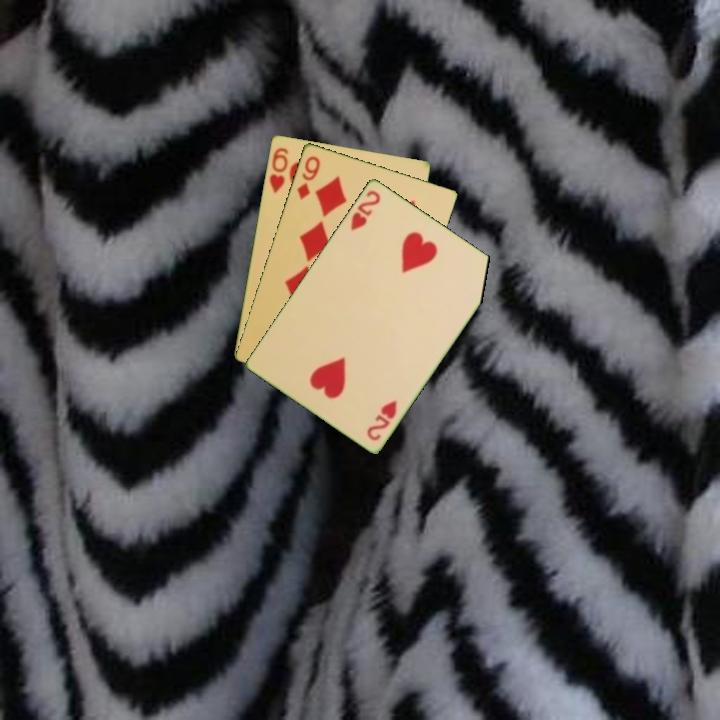2h: (363, 396, 400, 443), (347, 186, 383, 233)
6h: (266, 144, 291, 196)
9d: (293, 152, 323, 202)
